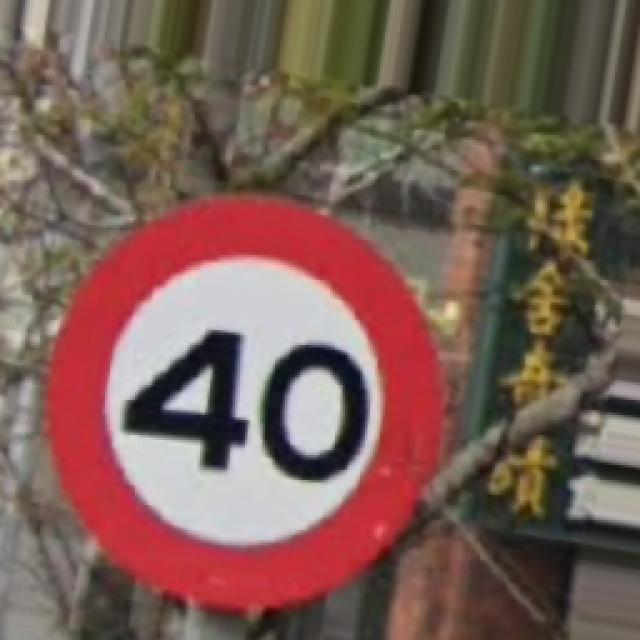Speed Limit -40-: (48, 195, 442, 610)
